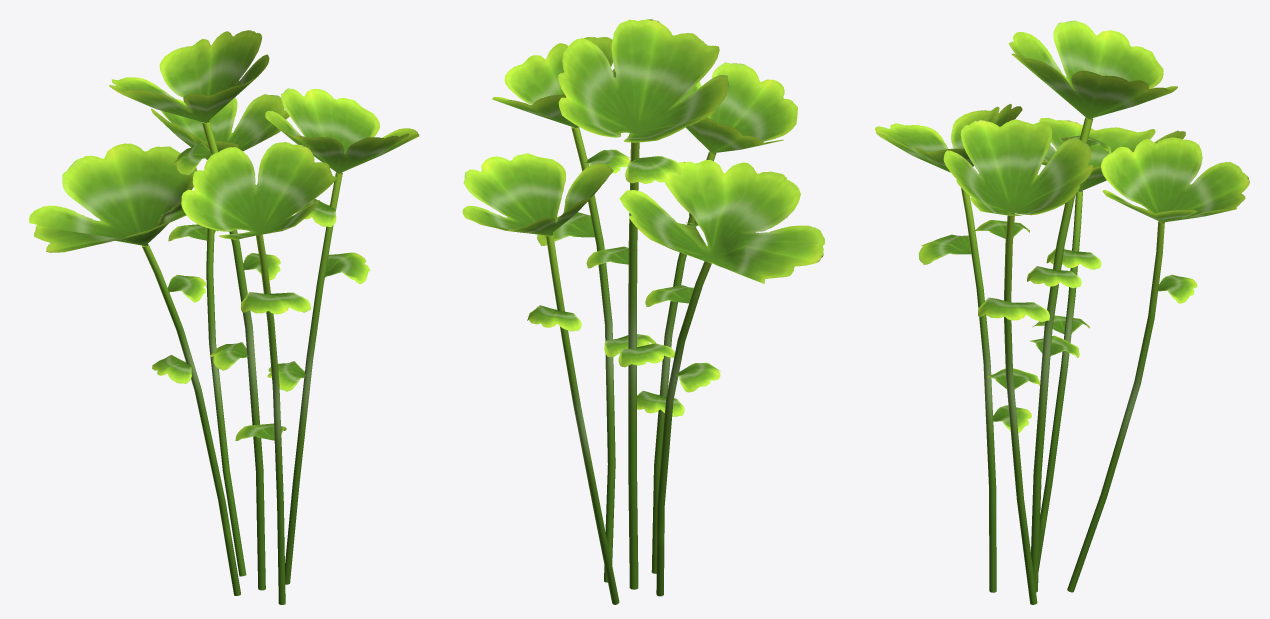
File: Clover_2.gltf
The picture shows the model from 3 angles, left to right: view 1: azimuth 30°, elevation 25°; view 2: azimuth 150°, elevation 25°; view 3: azimuth 270°, elevation 25°; orthographic projection. The views are drawn at different scales.
Visible parts, largest first — view 1: Clover_2; view 2: Clover_2; view 3: Clover_2.
Boxes of the visible parts, x1,y1,x2,y2 form: Clover_2: [29, 30, 419, 604]; Clover_2: [462, 19, 824, 604]; Clover_2: [875, 20, 1249, 604].
Bounding box in the file's own units: 0.8512 × 1.28 × 0.8417.
Materials: 1 (1 with a texture image).
